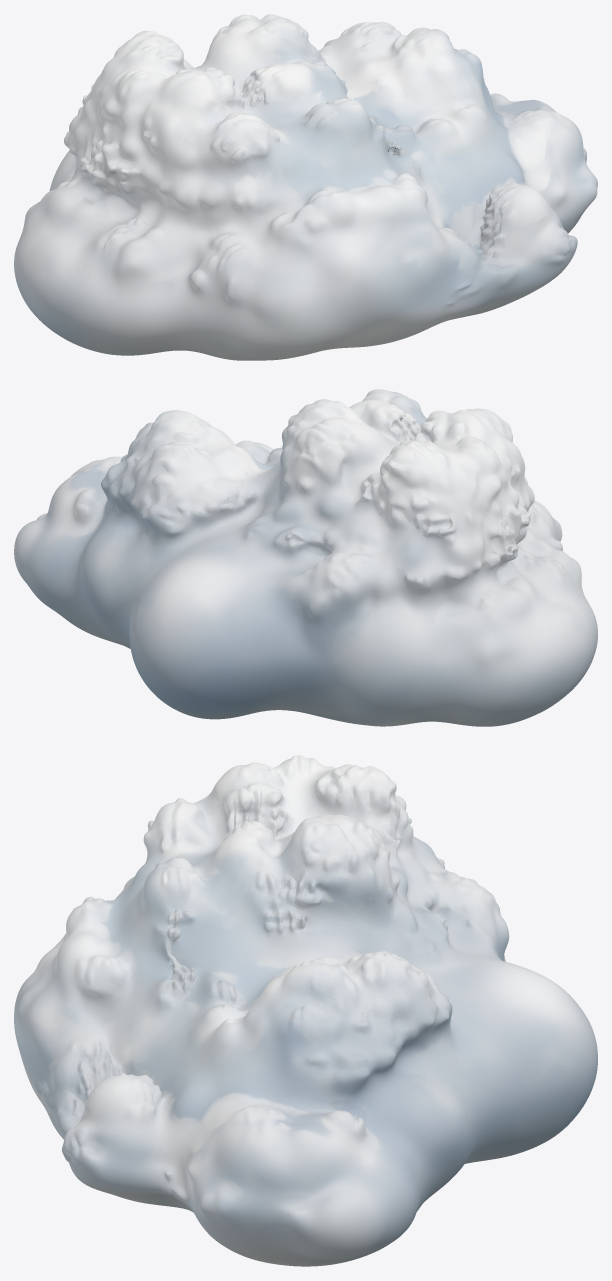
Rendered from cloud_nv3.glb.
The picture shows the model from 3 angles, top to bottom: view 1: azimuth 30°, elevation 25°; view 2: azimuth 150°, elevation 25°; view 3: azimuth 270°, elevation 25°; orthographic projection. The views are drawn at different scales.
Visible parts, largest first — view 1: model; view 2: model; view 3: model.
Part boxes in pixels (x1,y1,x2,y2): model: (14, 14, 597, 360); model: (14, 389, 597, 726); model: (14, 755, 597, 1266).
Bounding box in the file's own units: 1.9 × 0.9834 × 1.51.
Materials: 1 (1 with a texture image).
